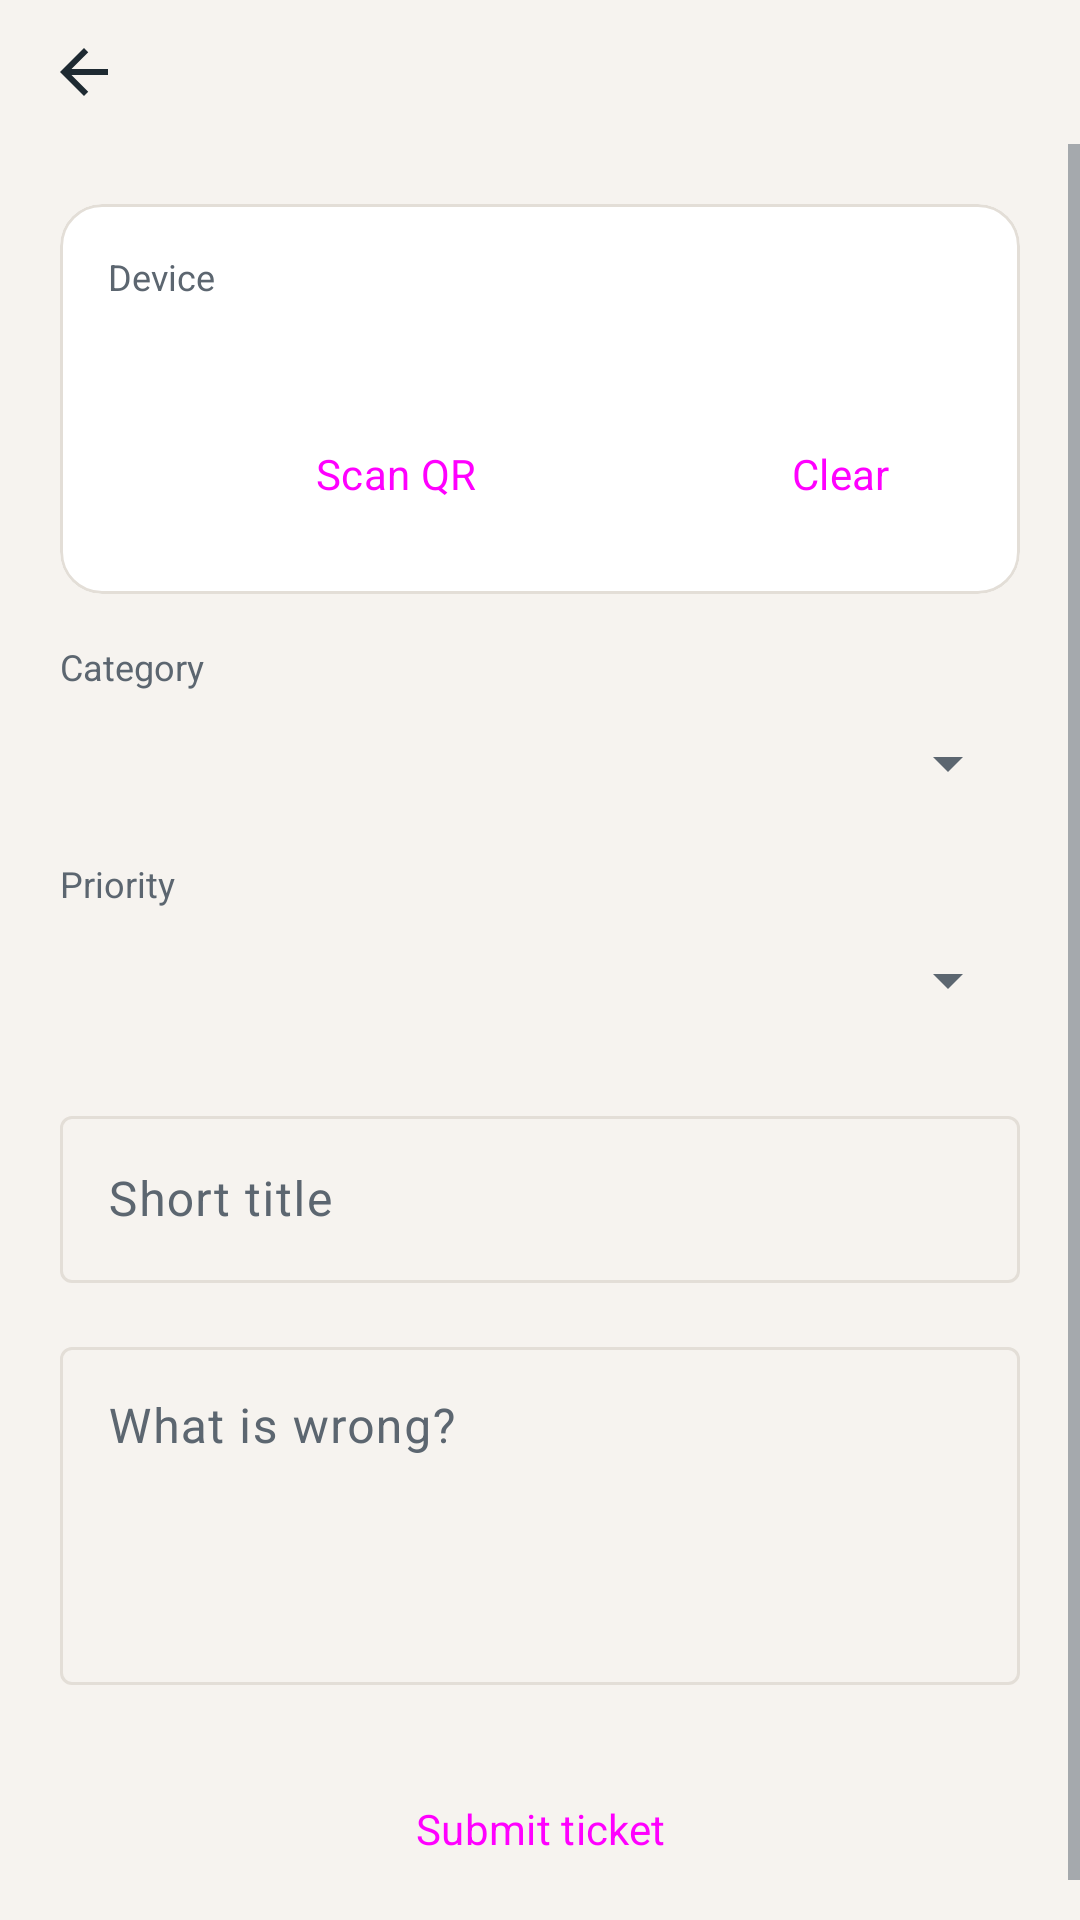

Screen size 1080px×1920px. Icon name, then its center in pixels as (x,y):
Back: (84,72)
